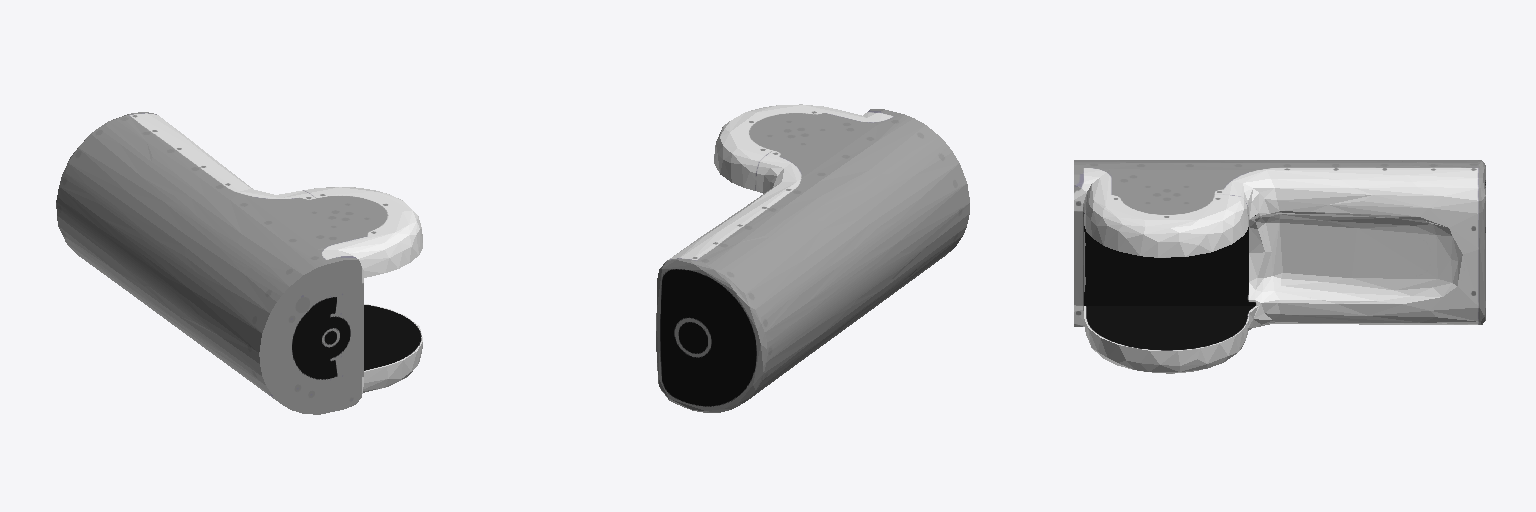
The picture shows the model from 3 angles: view 1: azimuth 30°, elevation 25°; view 2: azimuth 150°, elevation 25°; view 3: azimuth 270°, elevation 25°; orthographic projection.
Visible parts, largest first — view 1: /ambf/env/pr2/r_shoulder_pan_link_/ambf/env/pr2/r_shoulder_pan_l; view 2: /ambf/env/pr2/r_shoulder_pan_link_/ambf/env/pr2/r_shoulder_pan_l; view 3: /ambf/env/pr2/r_shoulder_pan_link_/ambf/env/pr2/r_shoulder_pan_l.
Boxes of the visible parts, x1,y1,x2,y2 form: /ambf/env/pr2/r_shoulder_pan_link_/ambf/env/pr2/r_shoulder_pan_l: [56, 112, 422, 414]; /ambf/env/pr2/r_shoulder_pan_link_/ambf/env/pr2/r_shoulder_pan_l: [656, 104, 969, 412]; /ambf/env/pr2/r_shoulder_pan_link_/ambf/env/pr2/r_shoulder_pan_l: [1074, 160, 1485, 373].
Bounding box in the file's own units: 0.3536 × 0.2543 × 0.6329.
1 materials, 1 textured.